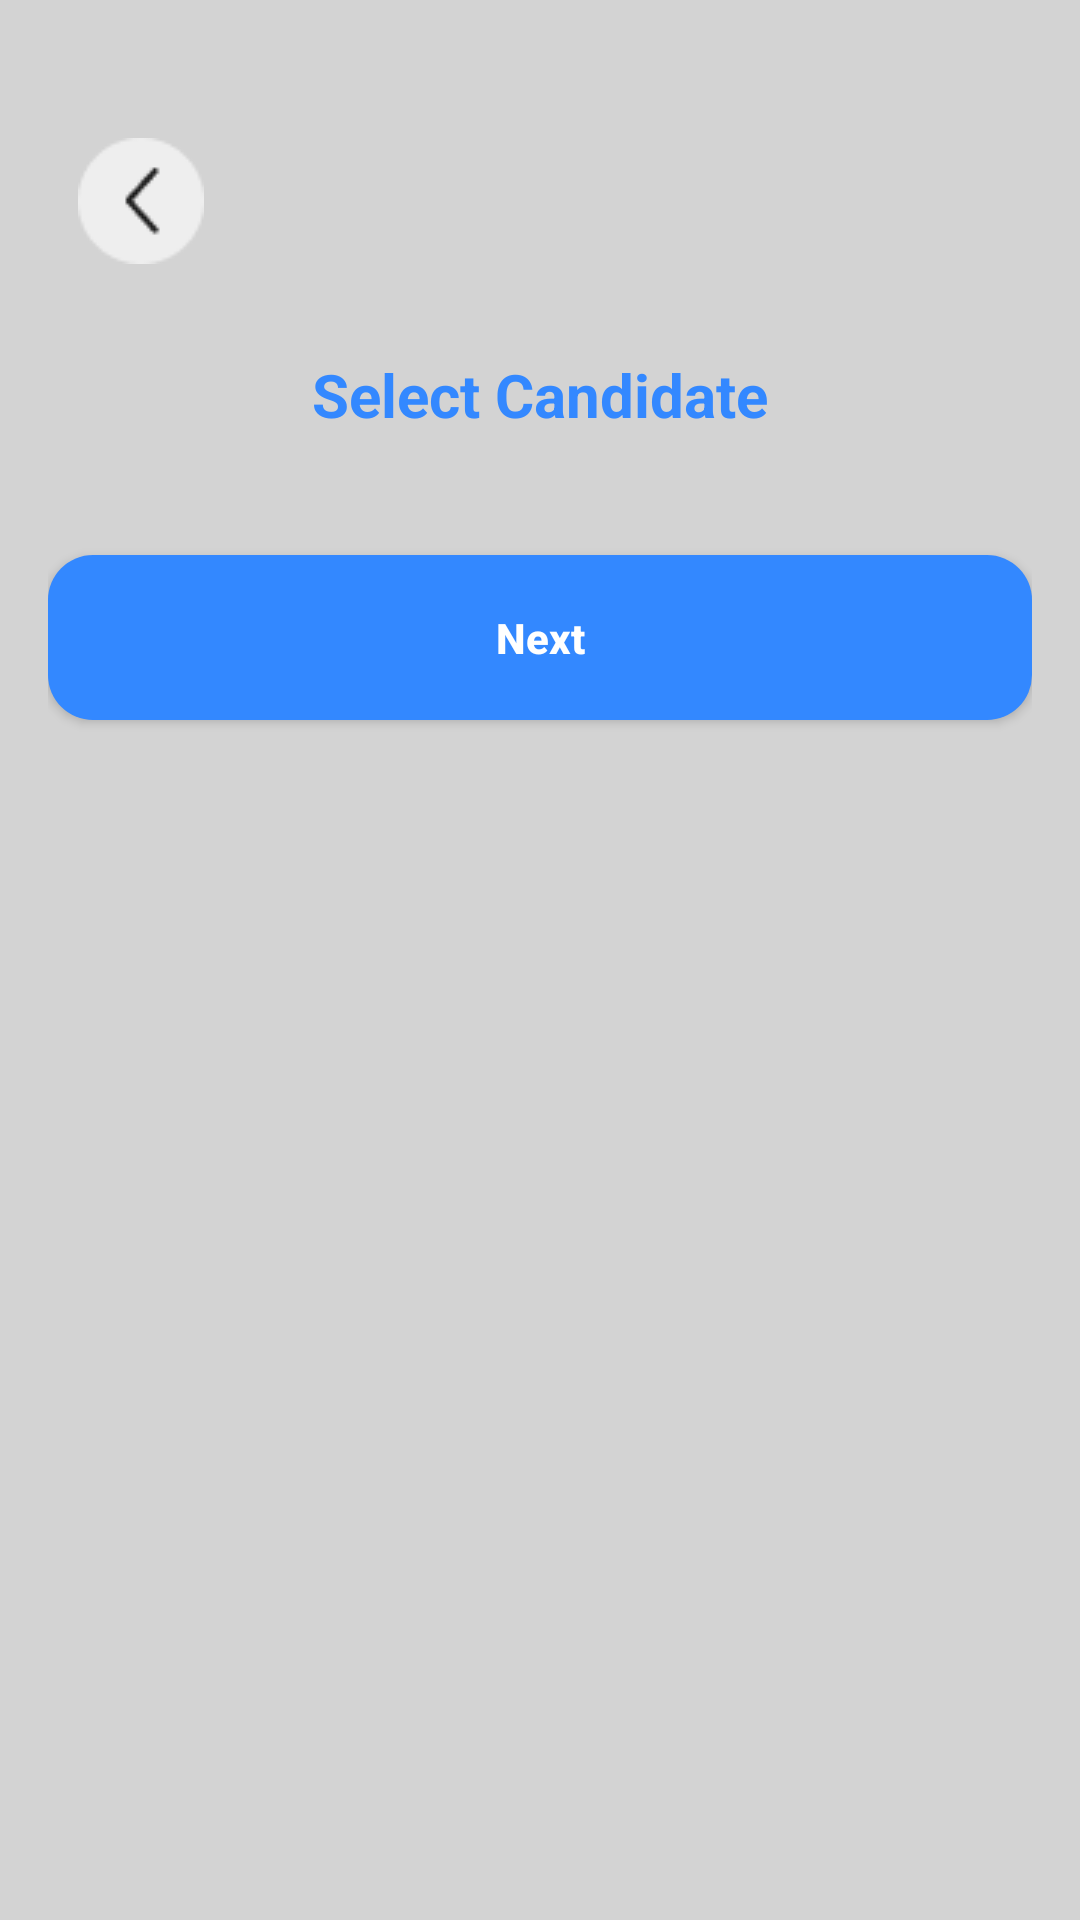

Icons on this 1080×1920 Android screen, each with the point to tap as point (x, y):
arrow back: point (141, 201)
